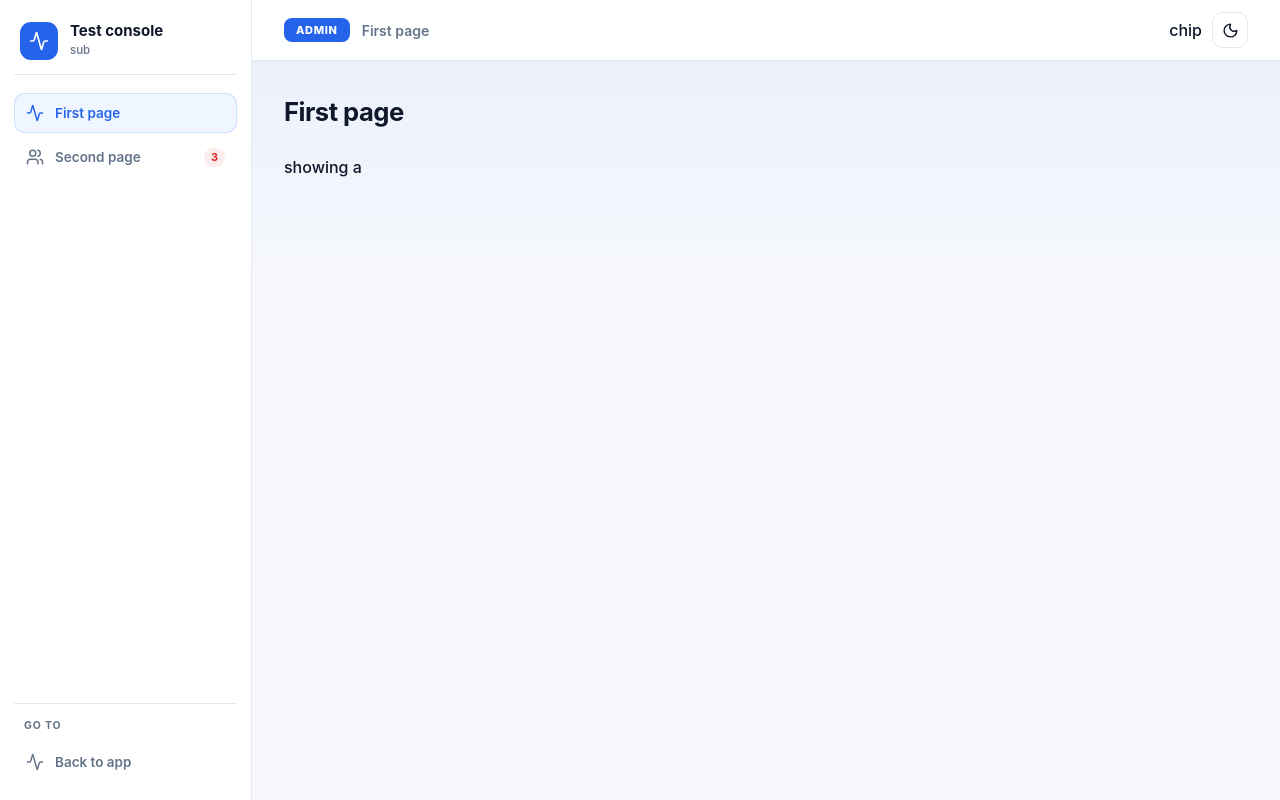
Test: ConsoleShell › switches page when a sidebar item is chosen and marks it selected
Click the tab "Second page 3". click: click(126, 157)
box: [14,137,237,178]
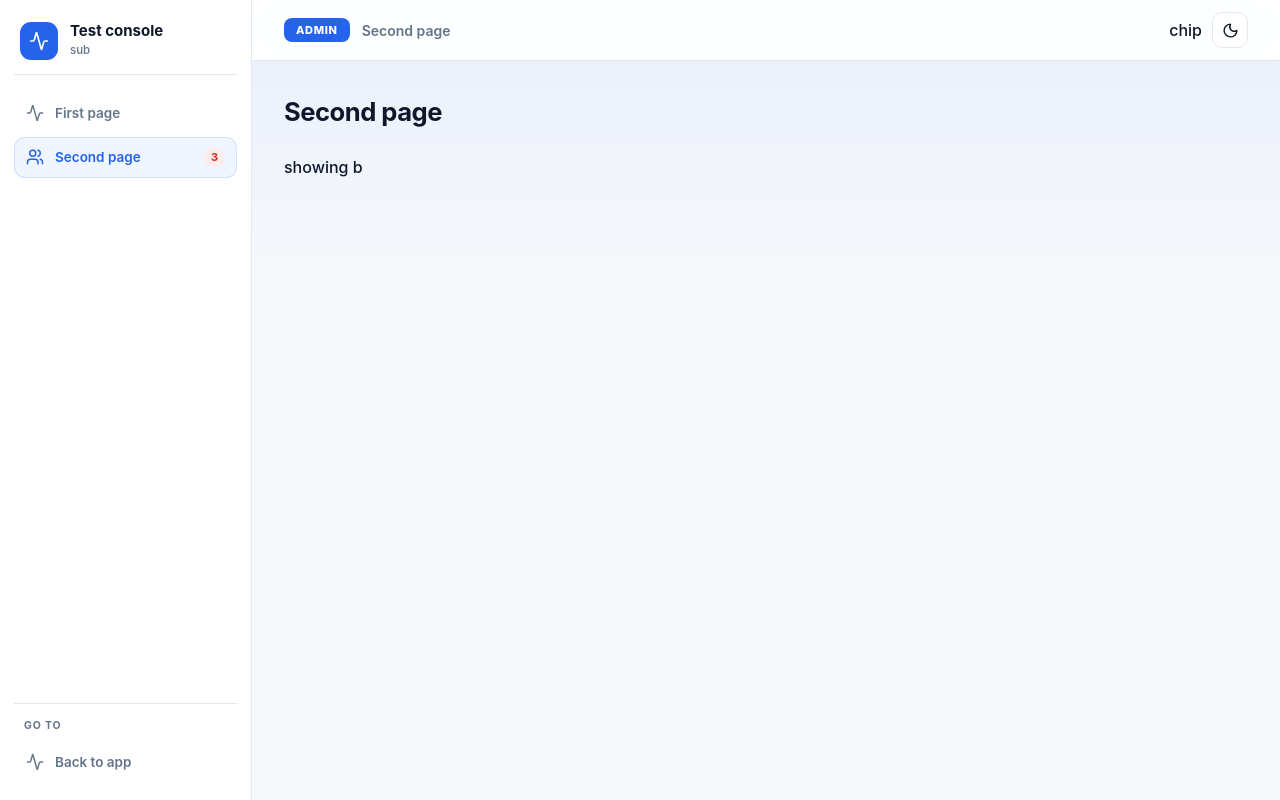
expect the text with test id "body" reads "showing b": met, box [284,157,363,177]
expect the heading "Second page" is shown: met, box [284,93,442,131]
